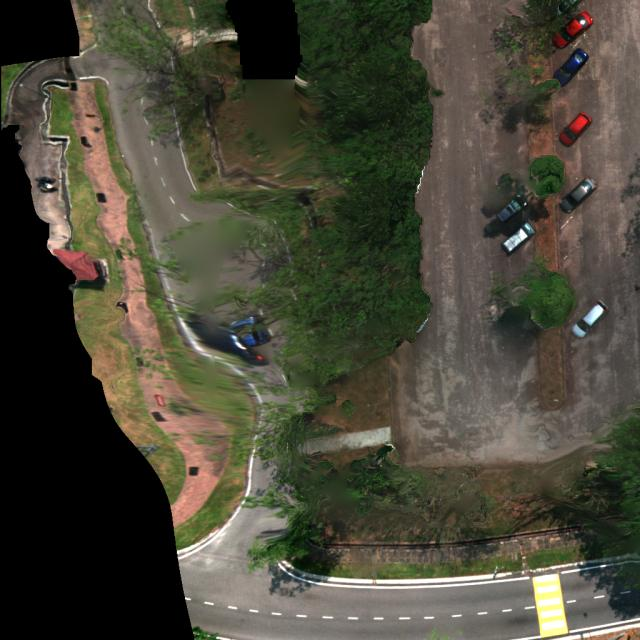blur tree: (496, 0, 582, 61), (510, 263, 579, 331), (477, 61, 561, 112), (529, 154, 567, 198)
